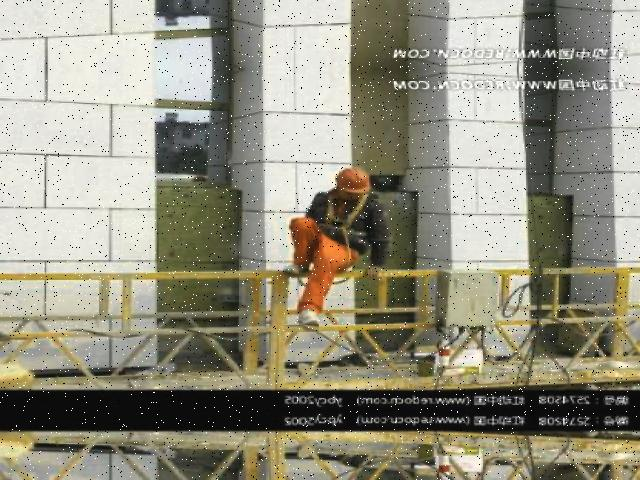Helmet: (334, 164, 376, 198)
